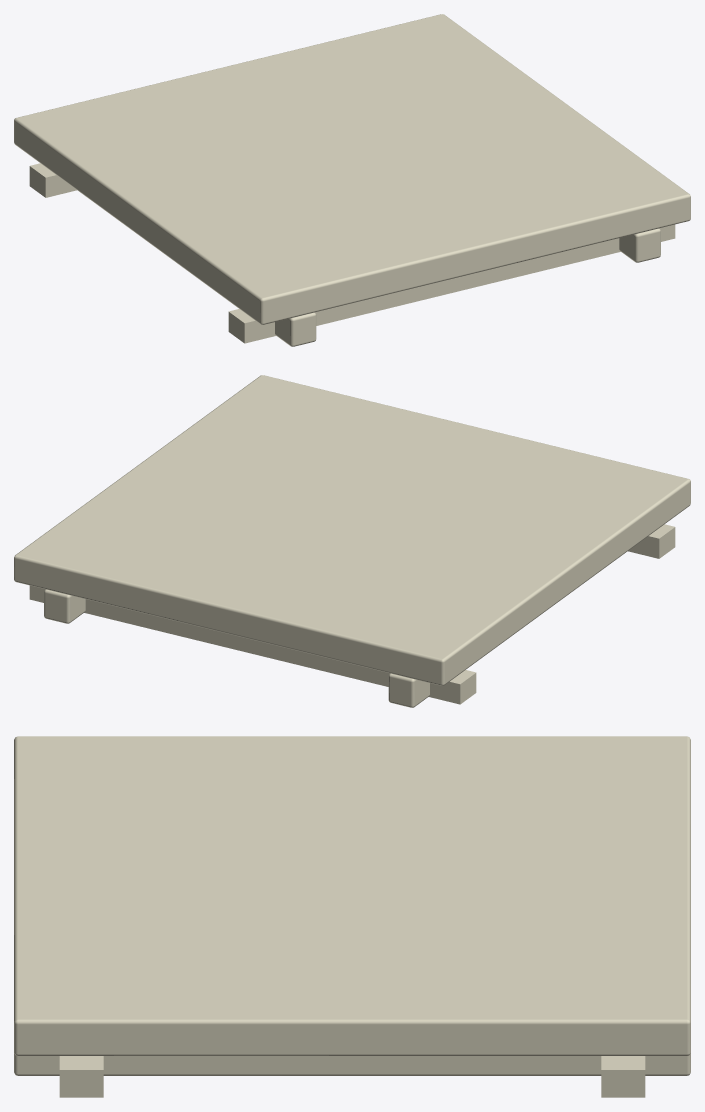
The model's file is bunker-shelter-construction-shelter-floor-slab-19c7cea2__23285.glb.
The picture shows the model from 3 angles, top to bottom: view 1: azimuth 30°, elevation 25°; view 2: azimuth 150°, elevation 25°; view 3: azimuth 270°, elevation 25°; orthographic projection. The views are drawn at different scales.
Visible parts, largest first — view 1: shelter-floor-slab; view 2: shelter-floor-slab; view 3: shelter-floor-slab.
Boxes of the visible parts, x1=… form: shelter-floor-slab: x1=14, y1=14, x2=690, y2=346; shelter-floor-slab: x1=14, y1=375, x2=690, y2=707; shelter-floor-slab: x1=14, y1=736, x2=690, y2=1097.
Bounding box in the file's own units: 2 × 0.25 × 2.
